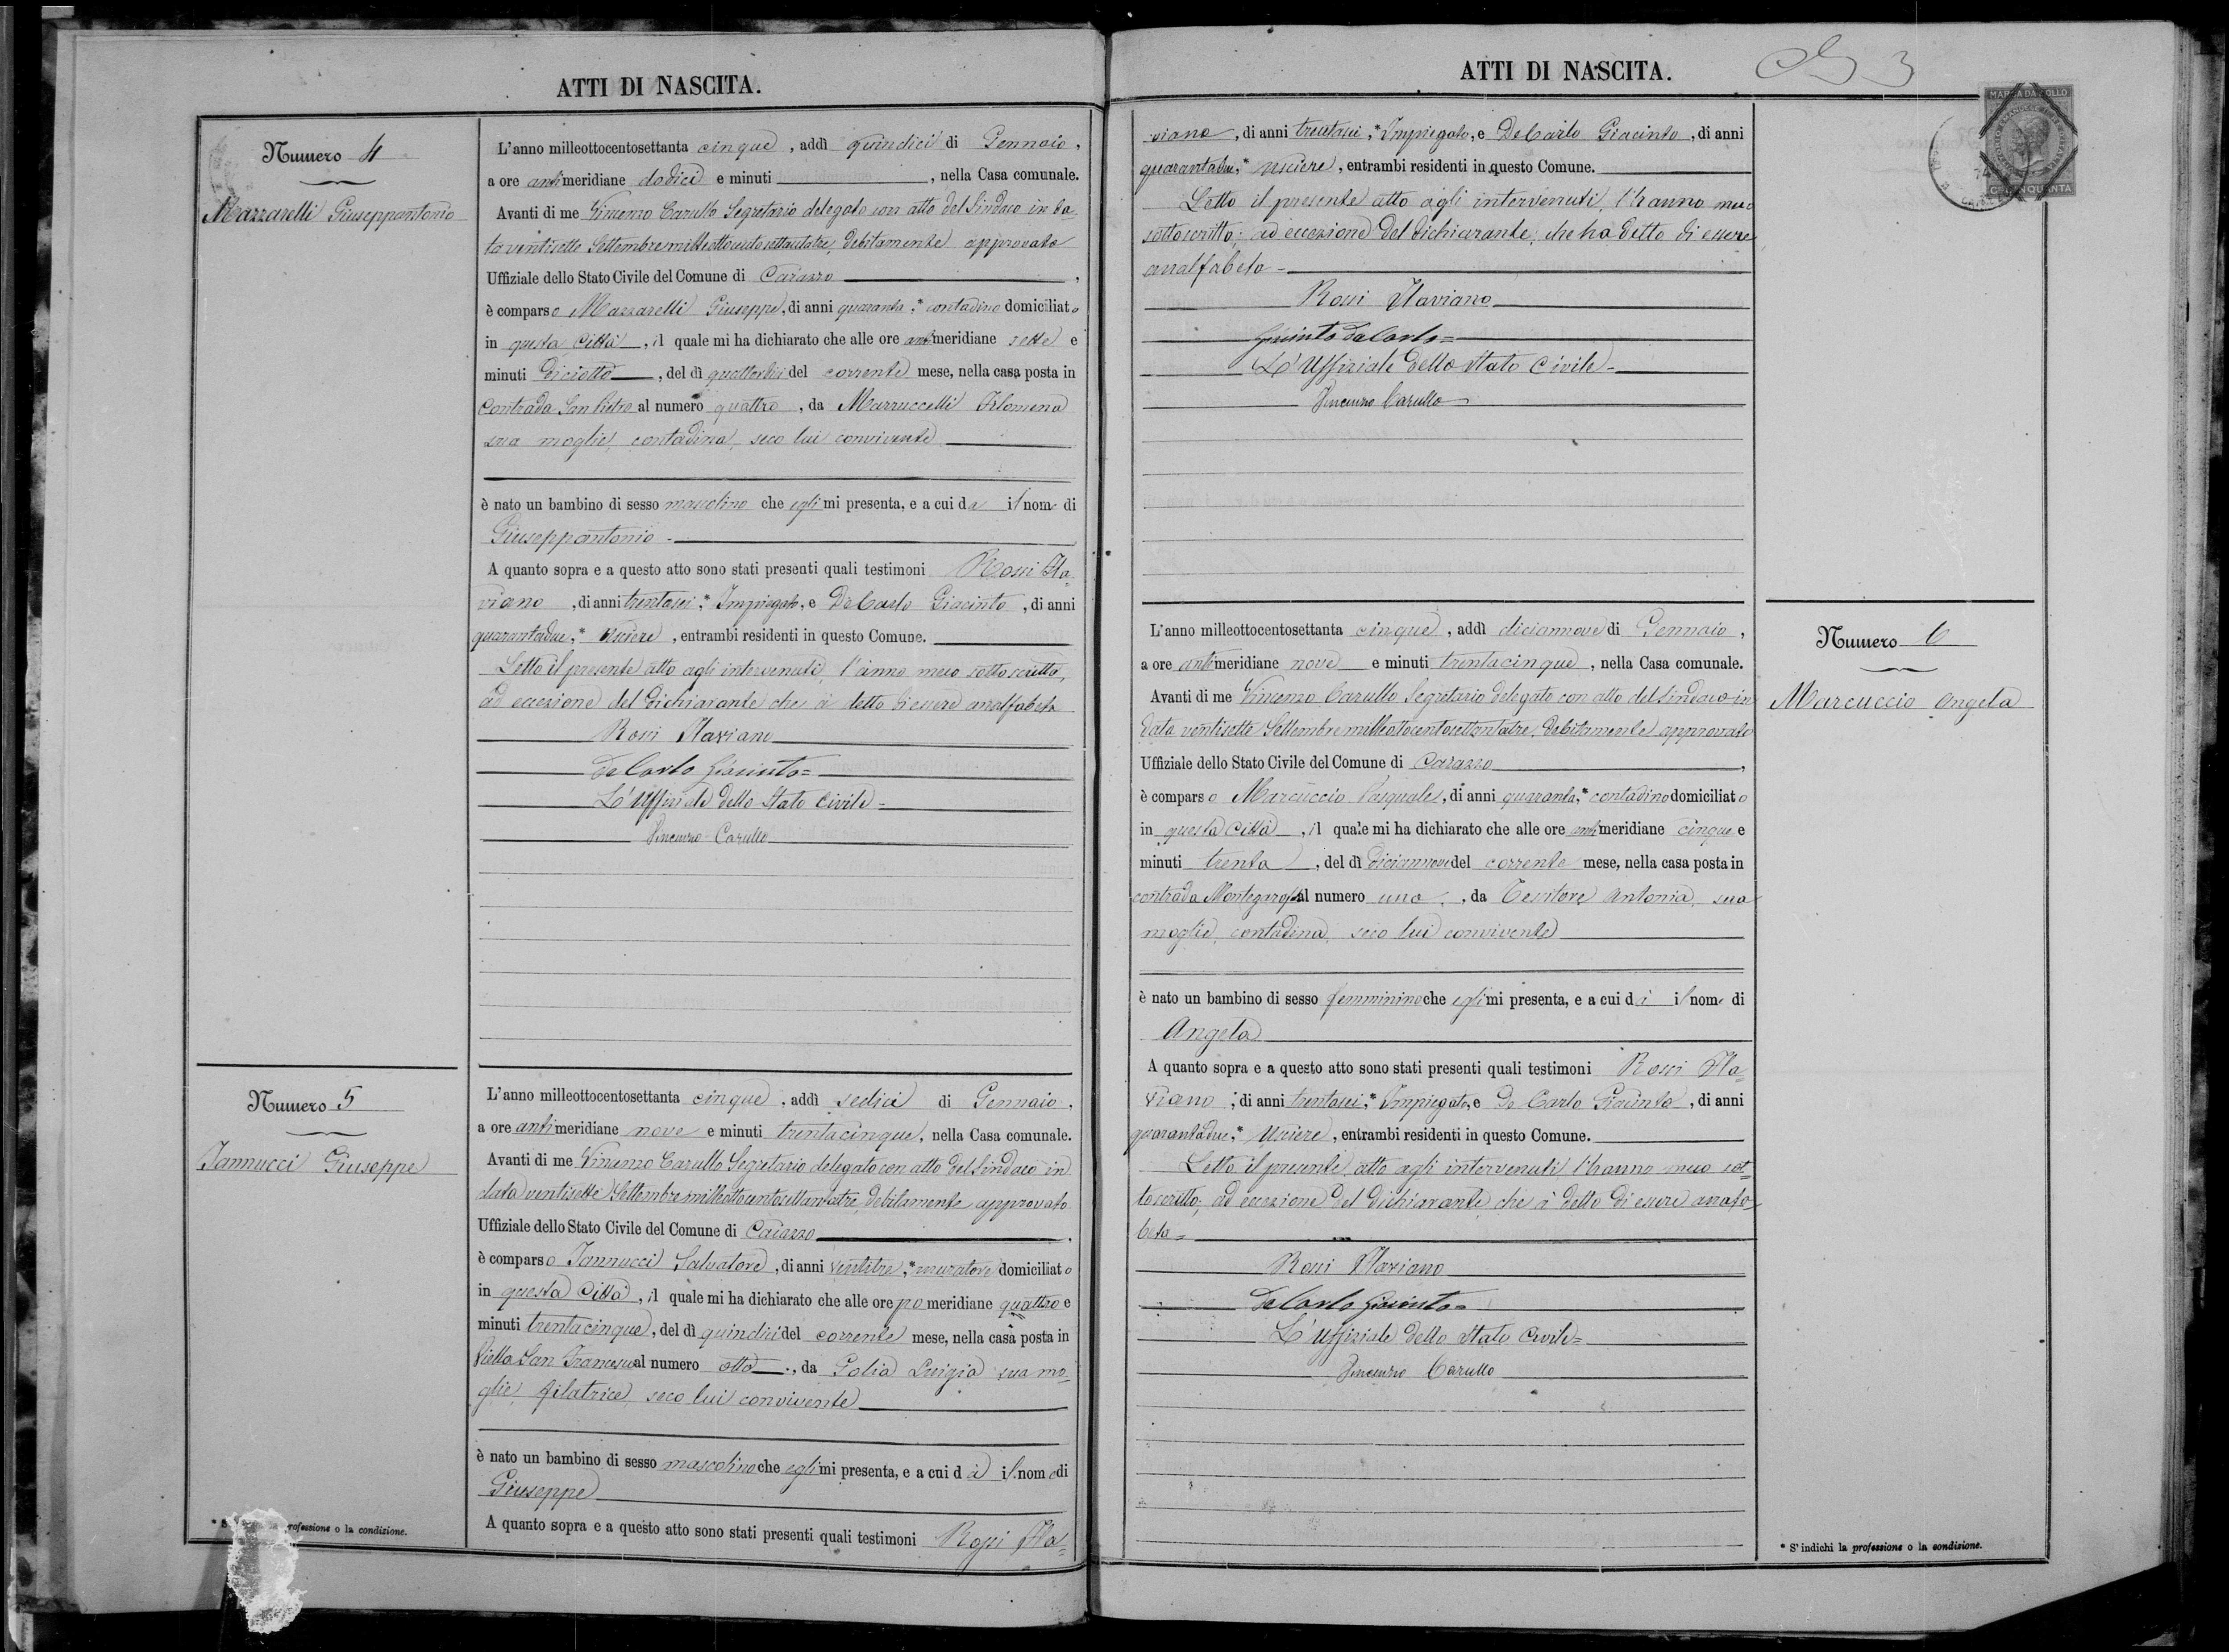Handwriting: (467, 1175, 1066, 1223), (477, 680, 1064, 724), (1177, 1149, 1752, 1192), (582, 1142, 1073, 1190), (493, 651, 1075, 689), (1180, 186, 1752, 222), (1238, 675, 1755, 715), (1132, 1183, 1753, 1216), (1141, 713, 1755, 746), (1141, 213, 1748, 245), (484, 420, 937, 462), (483, 229, 1076, 259), (1139, 916, 1559, 956), (472, 1376, 859, 1418), (588, 189, 1076, 222), (1267, 1317, 1581, 1364), (1253, 340, 1614, 380), (1769, 679, 2022, 725), (590, 783, 875, 824), (1226, 321, 1446, 371), (833, 1354, 1066, 1397), (196, 1140, 432, 1182), (590, 755, 842, 793), (1250, 1286, 1495, 1324), (932, 1515, 1069, 1577), (1208, 774, 1443, 810), (200, 193, 464, 224), (490, 512, 654, 555), (1295, 278, 1496, 312), (1132, 880, 1304, 920), (1498, 878, 1755, 904), (552, 290, 788, 318), (566, 1242, 769, 1274), (1269, 1244, 1446, 1277), (498, 1272, 630, 1314), (1311, 380, 1469, 415), (588, 715, 778, 743), (1436, 644, 1580, 680), (486, 1465, 599, 1510), (472, 1334, 621, 1367), (1335, 1354, 1496, 1383), (524, 1307, 653, 1343), (1141, 252, 1269, 288), (1498, 116, 1675, 142), (1161, 1013, 1262, 1059), (1616, 1050, 1748, 1083), (1378, 1083, 1477, 1126), (1134, 154, 1234, 196), (1318, 982, 1422, 1022), (477, 390, 632, 416), (943, 548, 1071, 580), (1165, 812, 1279, 847), (830, 1255, 1003, 1277), (646, 814, 769, 845), (712, 583, 795, 626), (1382, 116, 1469, 158), (774, 1119, 930, 1142), (844, 127, 943, 160), (470, 619, 573, 651), (507, 333, 628, 359), (1198, 842, 1304, 871), (838, 387, 967, 411), (1635, 607, 1727, 640), (1356, 611, 1443, 646), (693, 1078, 774, 1114), (1594, 1083, 1687, 1114), (691, 128, 778, 161), (930, 583, 1026, 611), (1147, 118, 1236, 147), (1500, 614, 1606, 639), (1489, 1085, 1583, 1111), (972, 1081, 1057, 1109), (837, 1079, 917, 1109), (698, 1322, 779, 1350), (713, 394, 779, 427), (538, 357, 627, 382), (825, 356, 911, 380), (826, 587, 913, 611), (705, 361, 785, 387), (1141, 1085, 1215, 1112), (1366, 843, 1451, 868), (661, 1451, 752, 1473), (983, 125, 1066, 149), (977, 390, 1071, 411), (1486, 849, 1580, 869), (474, 583, 543, 611), (1290, 1086, 1363, 1112), (1255, 154, 1338, 177), (1502, 784, 1576, 809), (599, 614, 663, 642), (1177, 646, 1241, 673), (816, 1324, 906, 1343), (1675, 817, 1733, 847), (778, 1456, 819, 1496), (760, 262, 833, 285), (1293, 118, 1366, 141), (1592, 784, 1670, 805), (637, 161, 703, 186), (663, 491, 746, 510), (1450, 984, 1488, 1026), (835, 298, 904, 321), (746, 1218, 816, 1241), (1000, 1295, 1061, 1319), (621, 588, 696, 607), (1415, 753, 1495, 770), (1377, 887, 1451, 904), (786, 493, 821, 526), (927, 297, 1000, 312), (1920, 618, 1956, 649), (1290, 649, 1340, 672), (884, 1300, 922, 1329), (1009, 326, 1062, 345), (1139, 1218, 1180, 1242), (358, 132, 389, 163), (514, 1112, 556, 1135), (625, 1124, 701, 1137), (717, 1354, 760, 1374), (337, 1083, 365, 1111), (967, 1451, 991, 1482), (1569, 816, 1601, 838), (1005, 1454, 1024, 1485), (904, 328, 934, 345), (1679, 984, 1698, 1005), (1014, 486, 1028, 510), (1637, 987, 1654, 1006), (969, 500, 988, 510), (1307, 821, 1316, 836), (1739, 791, 1746, 803), (1720, 996, 1726, 1008), (1052, 502, 1059, 510), (1050, 1468, 1055, 1478)
